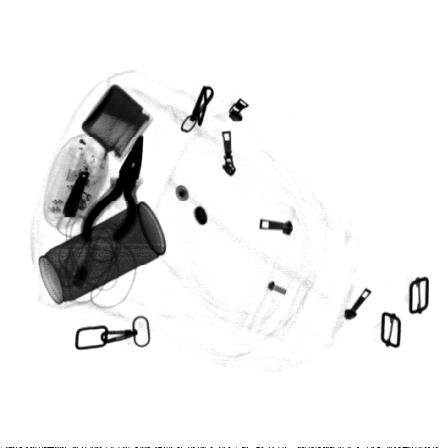Pliers: (79, 134, 145, 245)
